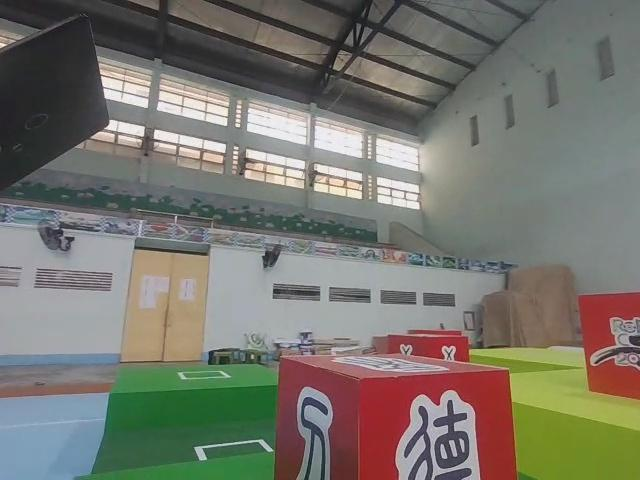R1: (575, 289, 640, 403)
R2 Fake: (273, 354, 519, 480)
